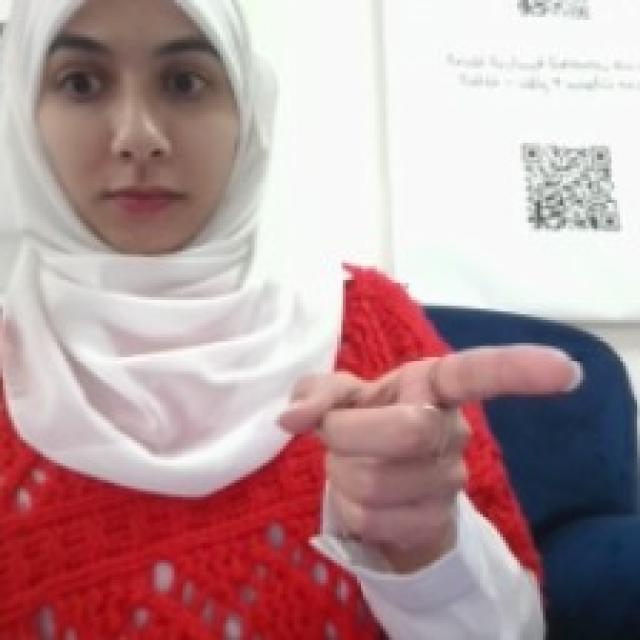you: (270, 337, 594, 562)
